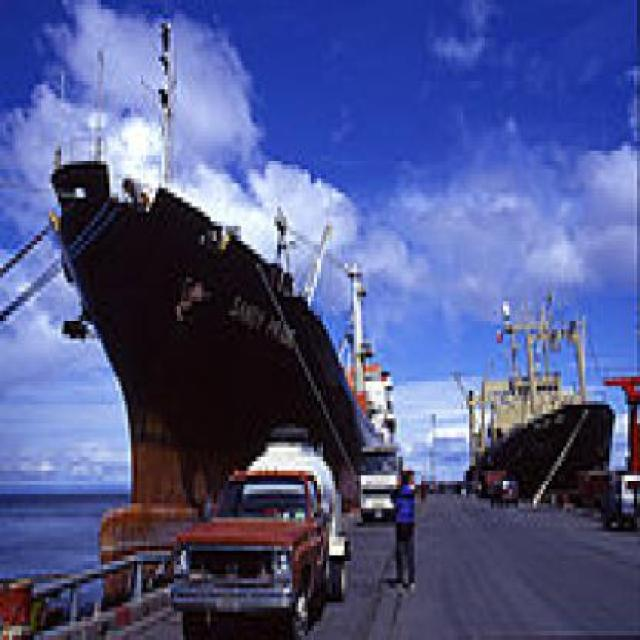container: (449, 279, 620, 519)
